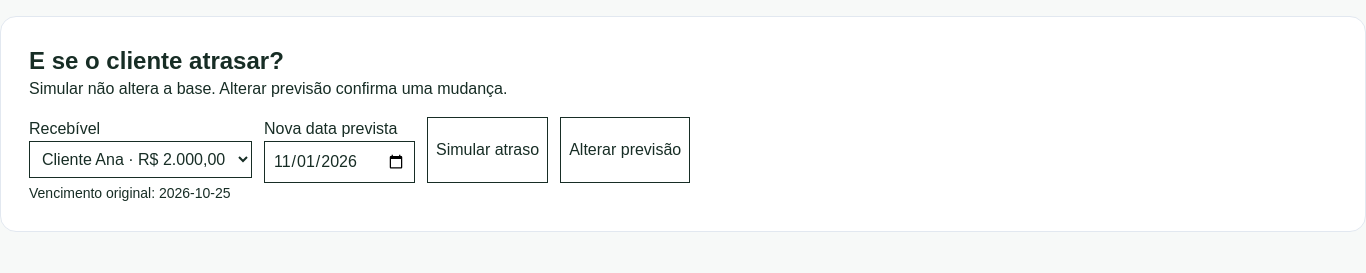
T17 CASH-05 alterar é ação distinta e preserva vencimento no patch
Click the button "Alterar previsão" at [625, 150], box [560,117,690,183]
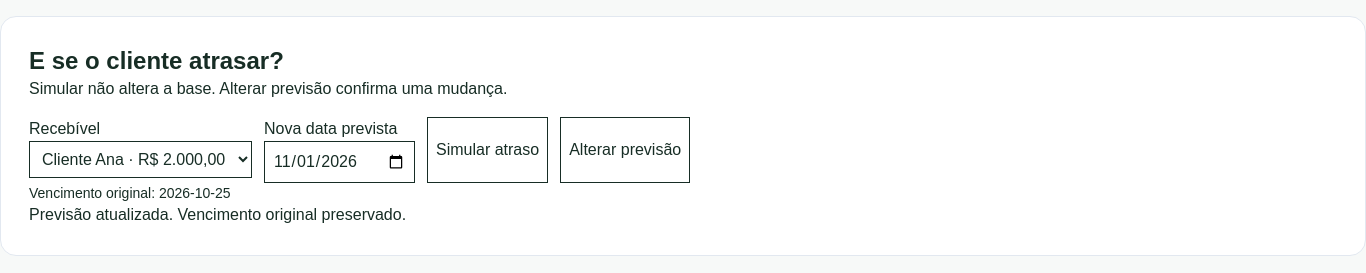
Result: the text "Previsão atualizada. Vencimento original preservado." is shown at [29,206,406,223]
